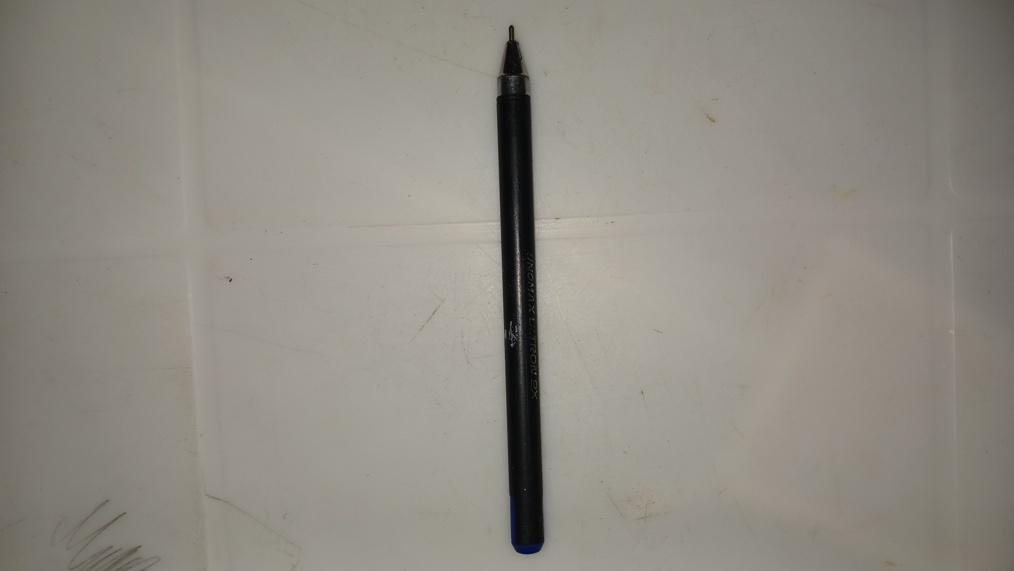pen: (501, 16, 543, 560)
